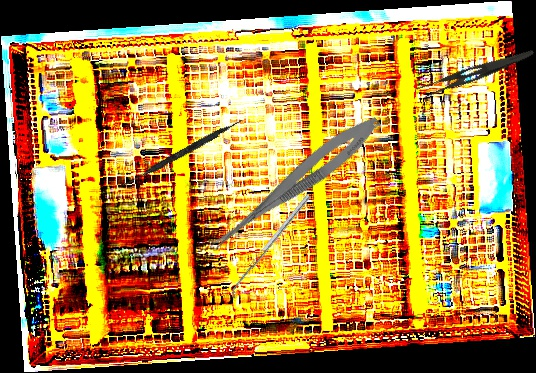Dressing Forceps: (414, 36, 535, 106)
Micro Scissor: (203, 107, 387, 263)
Spatula Surgical: (120, 115, 244, 191), (227, 194, 315, 299)
